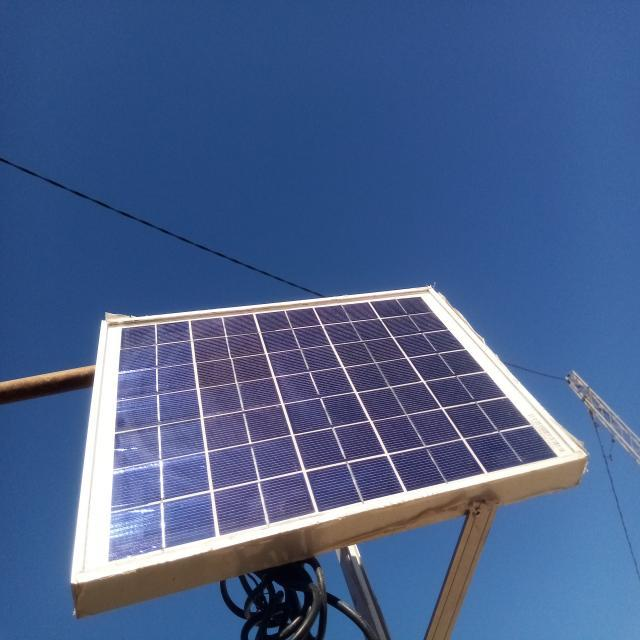no faulty: (71, 283, 588, 585)
